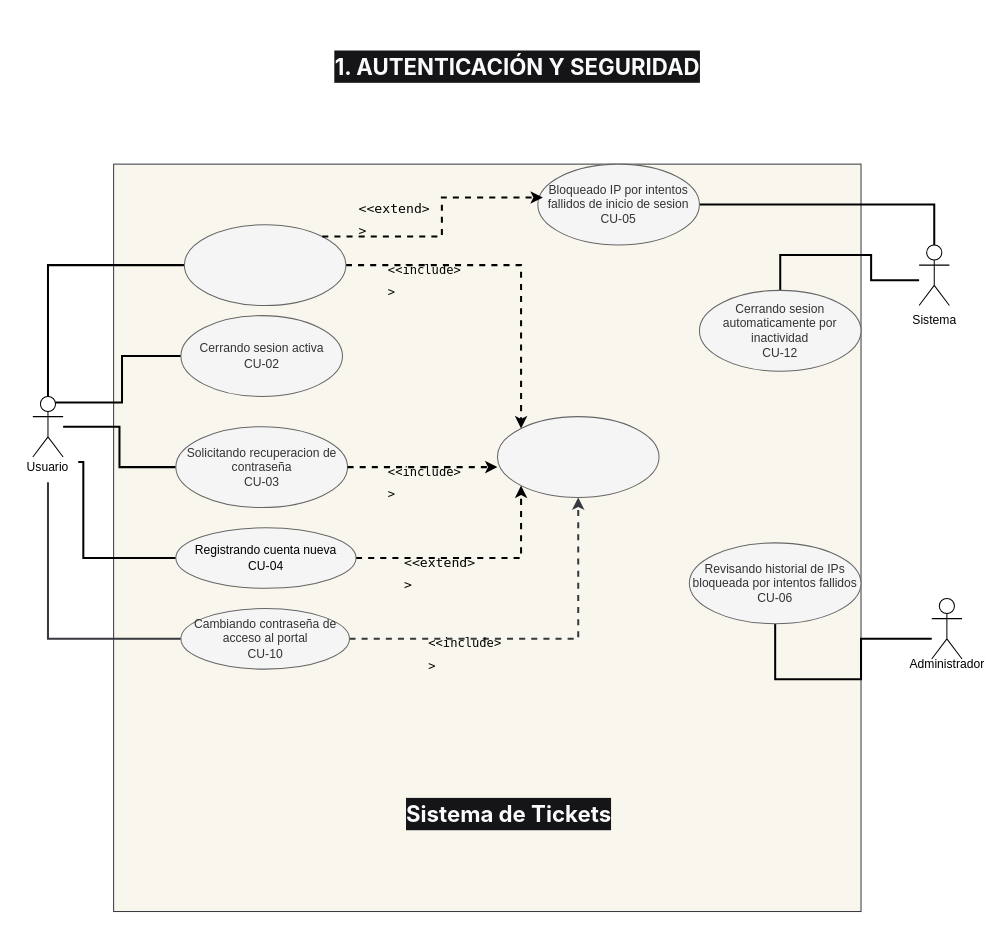
This 1007x929 diagram has some shape labels left out. Here are the shapes that lost their labels. From the top down, the centre of each, then its label:
At point 264,265: "Iniciando sesion y redirigiendo al portal cliente CU-01".
At point 577,456: "Validando requisitos de complejidad de contraseña CU-11".
